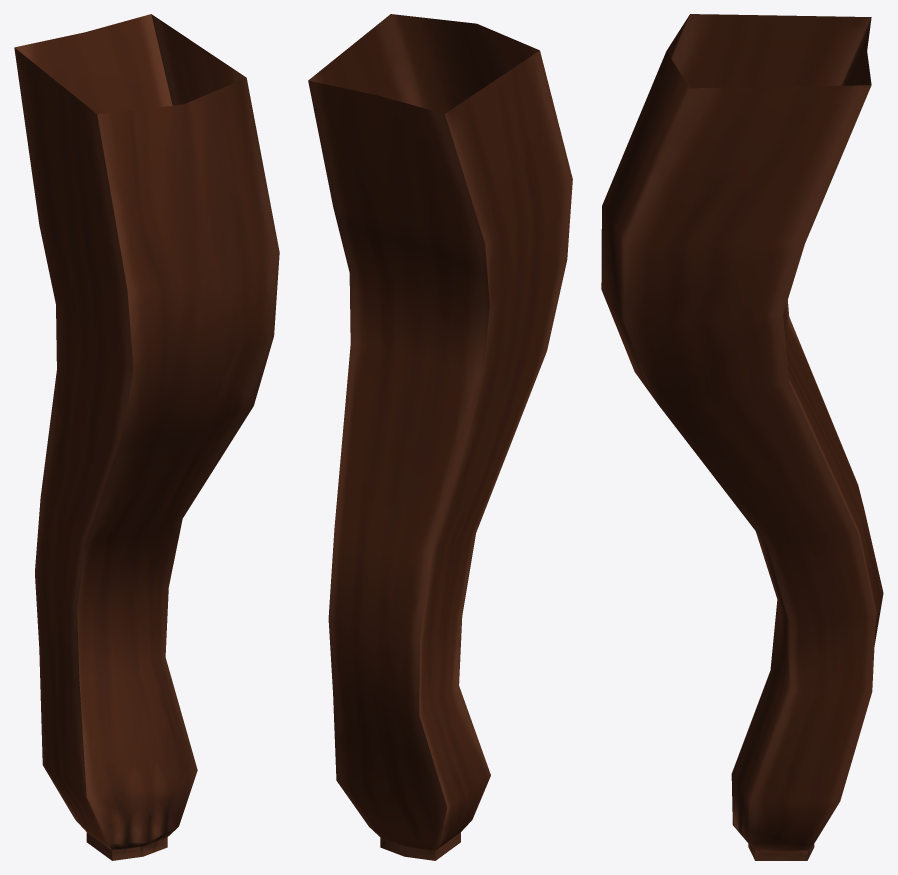
Rendered from Fancyleg_Medium2.fbx.
3 renders of one model, left to right at view 1: azimuth 30°, elevation 25°; view 2: azimuth 150°, elevation 25°; view 3: azimuth 270°, elevation 25°, orthographic. The views are drawn at different scales.
Parts seen in each view (by area): view 1: FancyLeg_Basic; view 2: FancyLeg_Basic; view 3: FancyLeg_Basic.
Boxes of the visible parts, bbox=[...] form: FancyLeg_Basic: bbox=[14, 14, 279, 860]; FancyLeg_Basic: bbox=[308, 14, 572, 860]; FancyLeg_Basic: bbox=[601, 14, 883, 860].
Size of the model in its own units: 5.53 by 27.12 by 8.71.
